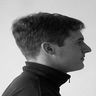ear: (37, 36, 58, 60)
